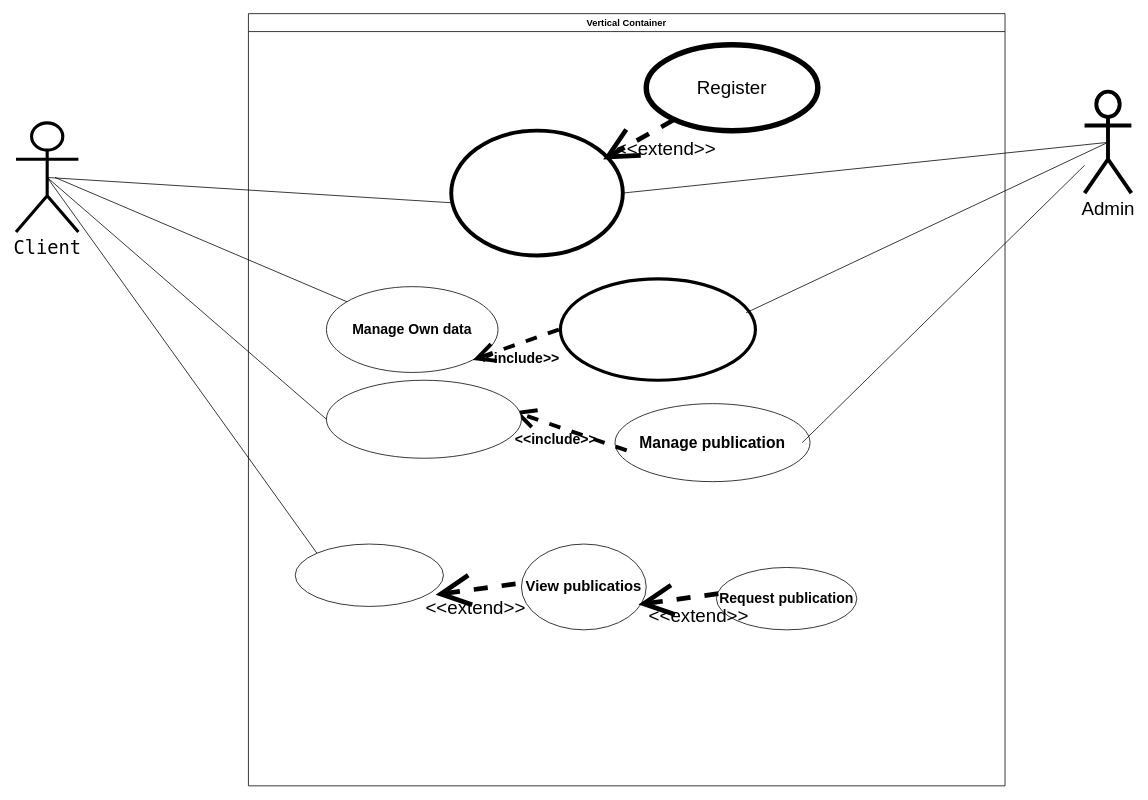
The diagram is 1148 pixels wide and 800 high, and some of its shapes have lost their labels. Here are the shapes that lost their labels. From the top down, the box of each, then its label:
(449, 128, 624, 257): Log in
(558, 277, 757, 381): Manage users (CRUD ops)
(326, 379, 521, 458): Manage own publication
(294, 543, 443, 606): Filter publications
